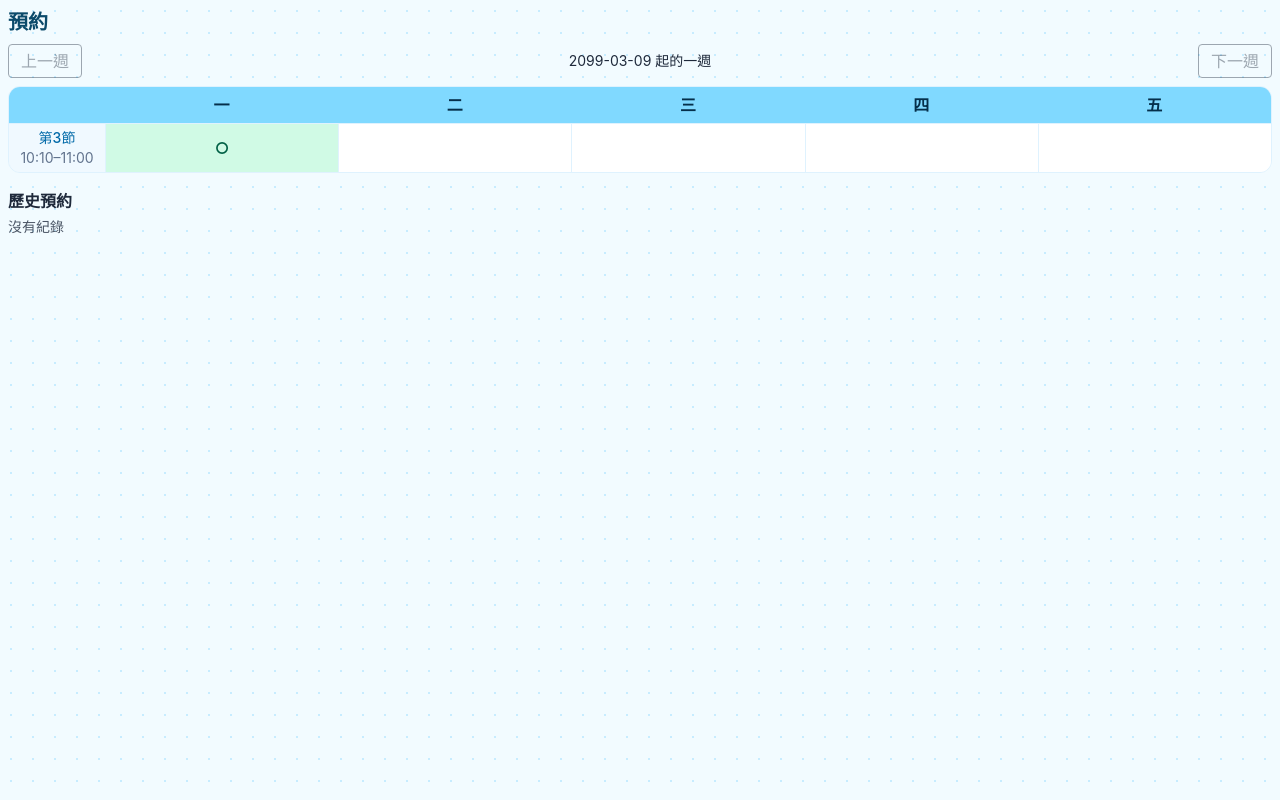
Test: BookingPage › keeps SLOT_UNAVAILABLE visible after the reload
The image size is (1280, 800).
Click the button "○". click: (222, 148)
box: x1=105 y1=123 x2=338 y2=172
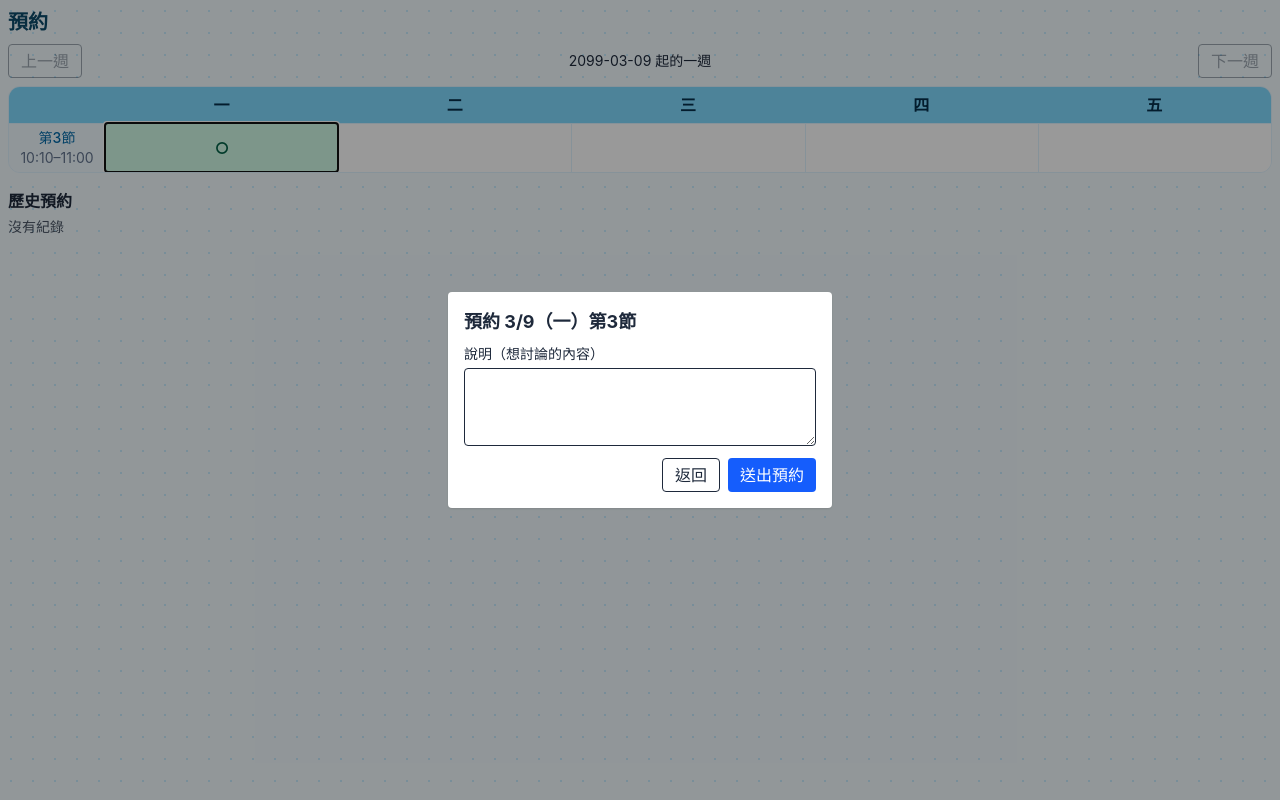
Click the button "送出預約". click: (772, 475)
box: x1=728 y1=458 x2=816 y2=492
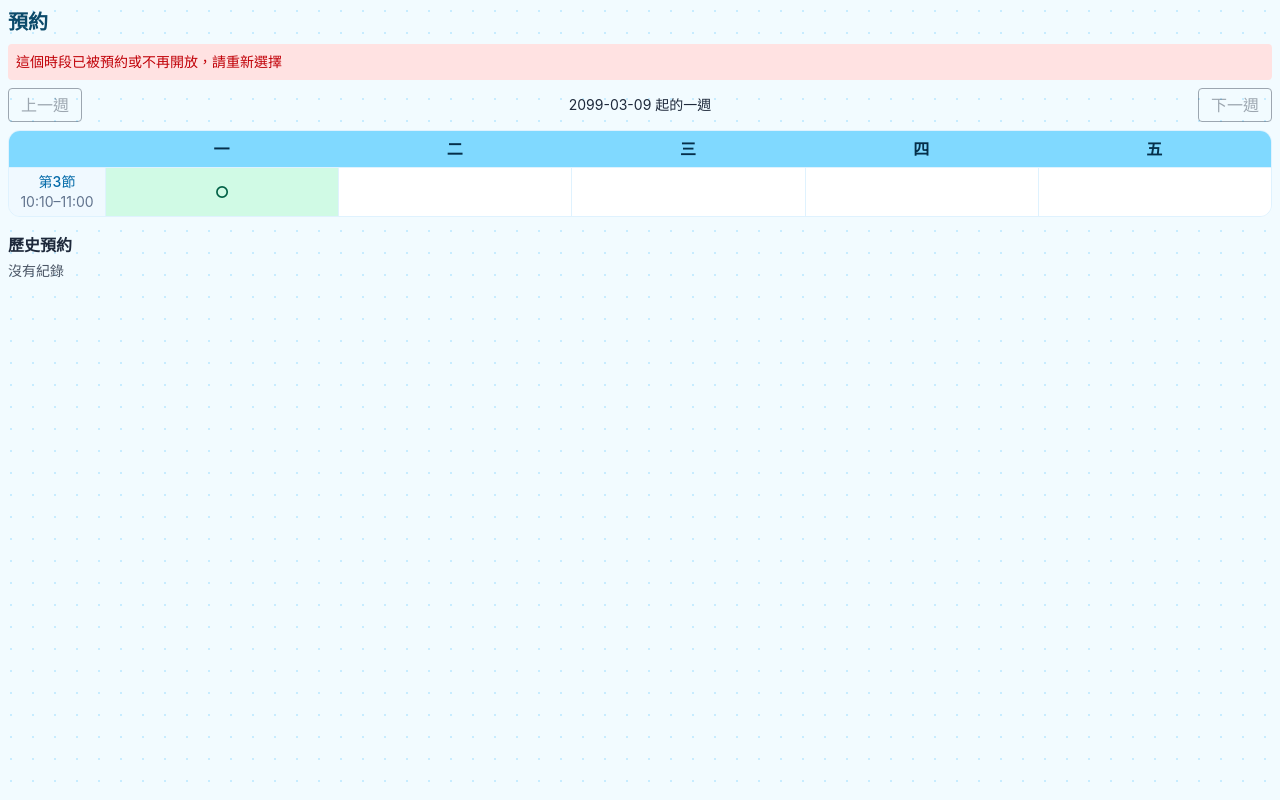
Expected: the text "這個時段已被預約或不再開放，請重新選擇" is shown, x1=8 y1=44 x2=1272 y2=80
Expected: the dialog is gone
Expected: the message shows "這個時段已被預約", x1=16 y1=53 x2=282 y2=70
